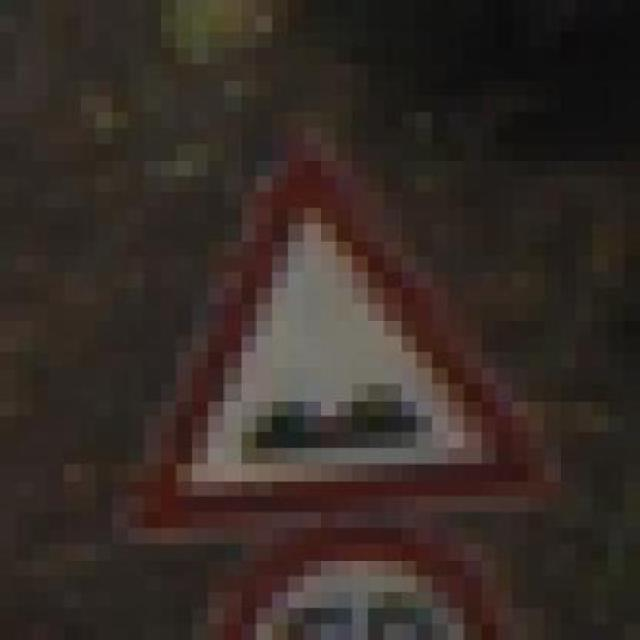Uneven Road: (95, 128, 560, 544)
